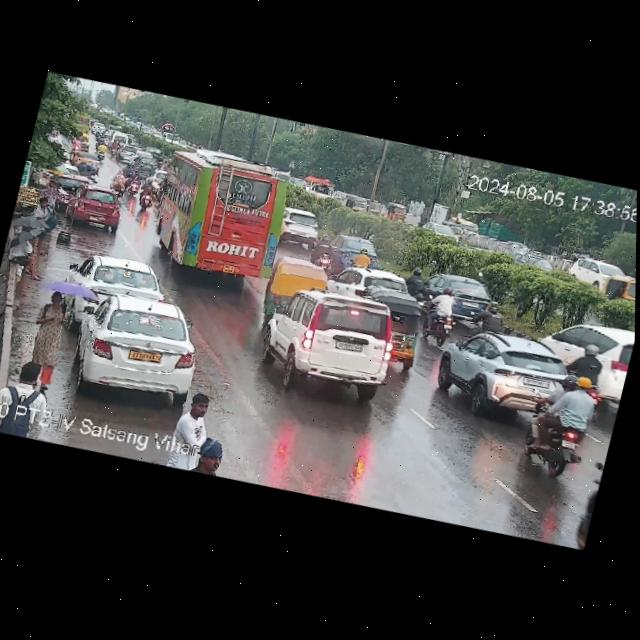bus: (144, 136, 296, 284)
car: (250, 275, 413, 400), (52, 280, 209, 409), (438, 324, 589, 431), (533, 311, 634, 402), (68, 248, 170, 308), (264, 255, 332, 318), (414, 265, 495, 316), (328, 257, 414, 302), (566, 247, 631, 297), (64, 183, 126, 232), (329, 229, 384, 269), (281, 206, 323, 247), (508, 245, 557, 276), (601, 270, 636, 309), (67, 148, 104, 184), (420, 216, 464, 246), (123, 146, 162, 170), (100, 127, 136, 150), (343, 191, 373, 217), (384, 201, 410, 227), (363, 196, 386, 215)
motorcycle: (521, 368, 605, 476), (417, 283, 464, 343), (475, 300, 508, 337), (309, 230, 337, 269), (135, 180, 160, 211), (123, 171, 143, 197), (111, 170, 130, 194)
person: (160, 394, 232, 477), (24, 287, 78, 378), (0, 347, 52, 440), (1, 221, 53, 279), (27, 198, 59, 242), (40, 178, 67, 209)
truck: (447, 216, 481, 238)
